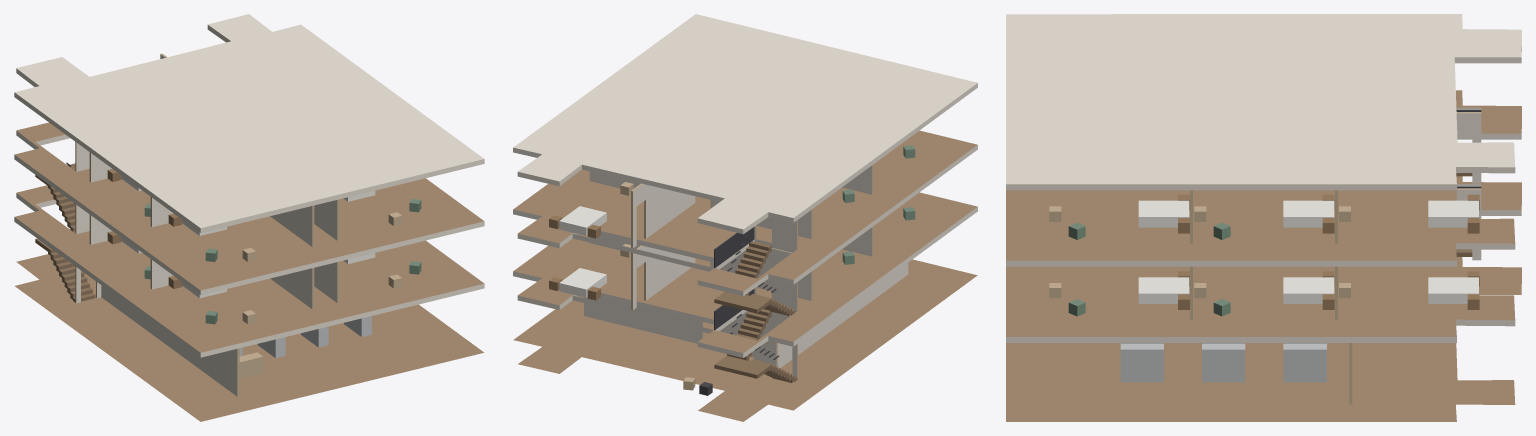
Rendered from interior.glb.
The picture shows the model from 3 angles, left to right: view 1: azimuth 30°, elevation 25°; view 2: azimuth 150°, elevation 25°; view 3: azimuth 270°, elevation 25°; orthographic projection. The views are drawn at different scales.
Visible parts, largest first — view 1: slabs, partitions, coarse-s0, stair, coarse-s1, coarse-s2; view 2: slabs, partitions, stair, coarse-s2, coarse-s1; view 3: slabs, coarse-s2, coarse-s1, coarse-s0, partitions.
Part boxes in pixels (bbox=[...]): slabs: bbox=[14, 14, 484, 421]; partitions: bbox=[75, 53, 339, 396]; coarse-s0: bbox=[239, 316, 371, 378]; stair: bbox=[35, 162, 95, 302]; coarse-s1: bbox=[107, 231, 421, 324]; coarse-s2: bbox=[107, 169, 421, 261]; slabs: bbox=[513, 14, 977, 421]; partitions: bbox=[584, 165, 908, 379]; stair: bbox=[714, 227, 797, 382]; coarse-s2: bbox=[549, 145, 915, 238]; coarse-s1: bbox=[549, 207, 915, 300]; slabs: bbox=[1006, 14, 1521, 421]; coarse-s2: bbox=[1049, 194, 1479, 239]; coarse-s1: bbox=[1049, 271, 1479, 316]; coarse-s0: bbox=[1120, 343, 1326, 382]; partitions: bbox=[1190, 112, 1481, 404].
Bounding box in the file's own units: 15.84 × 10.33 × 20.28.
